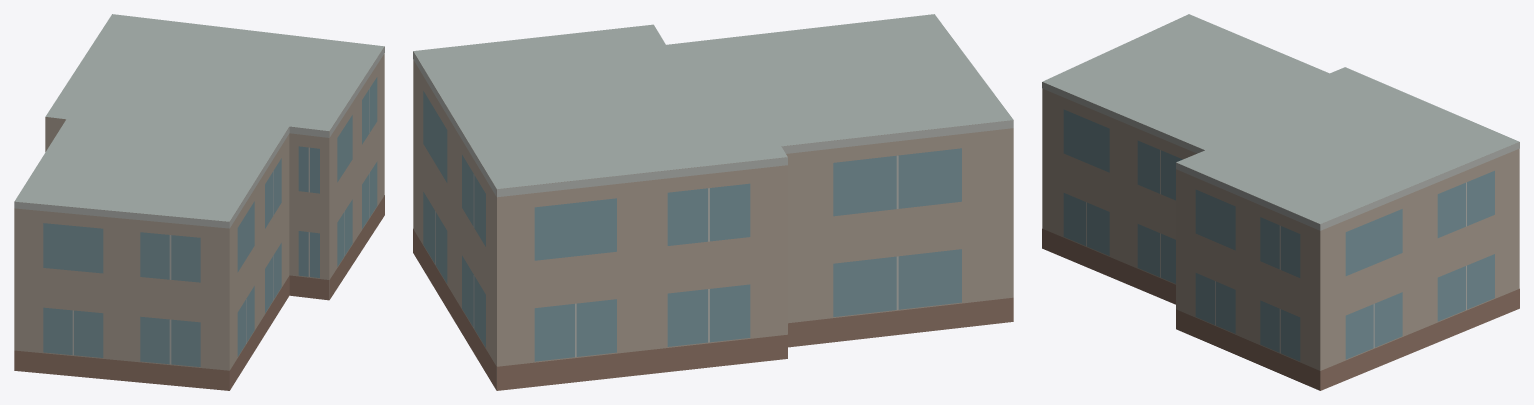
Rendered from survey-upis-32831242.glb.
3 views of the same model, side by side, from view 1: azimuth 30°, elevation 25°; view 2: azimuth 150°, elevation 25°; view 3: azimuth 270°, elevation 25° (orthographic). The views are drawn at different scales.
Parts seen in each view (by area): view 1: survey-upis-32831242.tmp; view 2: survey-upis-32831242.tmp; view 3: survey-upis-32831242.tmp.
Boxes of the visible parts, x1,y1,x2,y2 form: survey-upis-32831242.tmp: [14, 14, 384, 390]; survey-upis-32831242.tmp: [413, 14, 1013, 390]; survey-upis-32831242.tmp: [1042, 14, 1519, 390].
Size of the model in its own units: 16.5 by 6.1 by 15.85.
